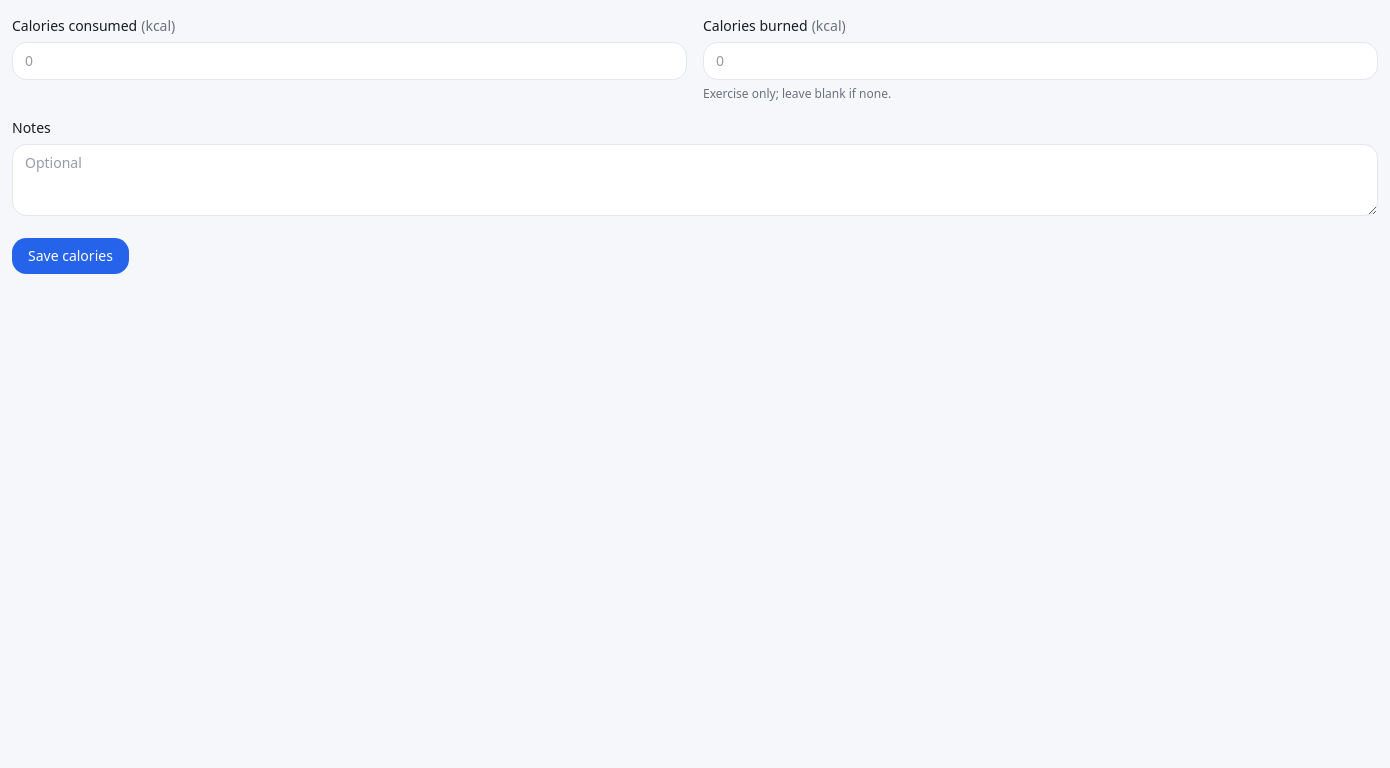
calorie quick entry › shows backend field errors on the matching input
Type "2200" into the number field labelled "Calories consumed(kcal)" at (350,61), box [12, 42, 687, 80]
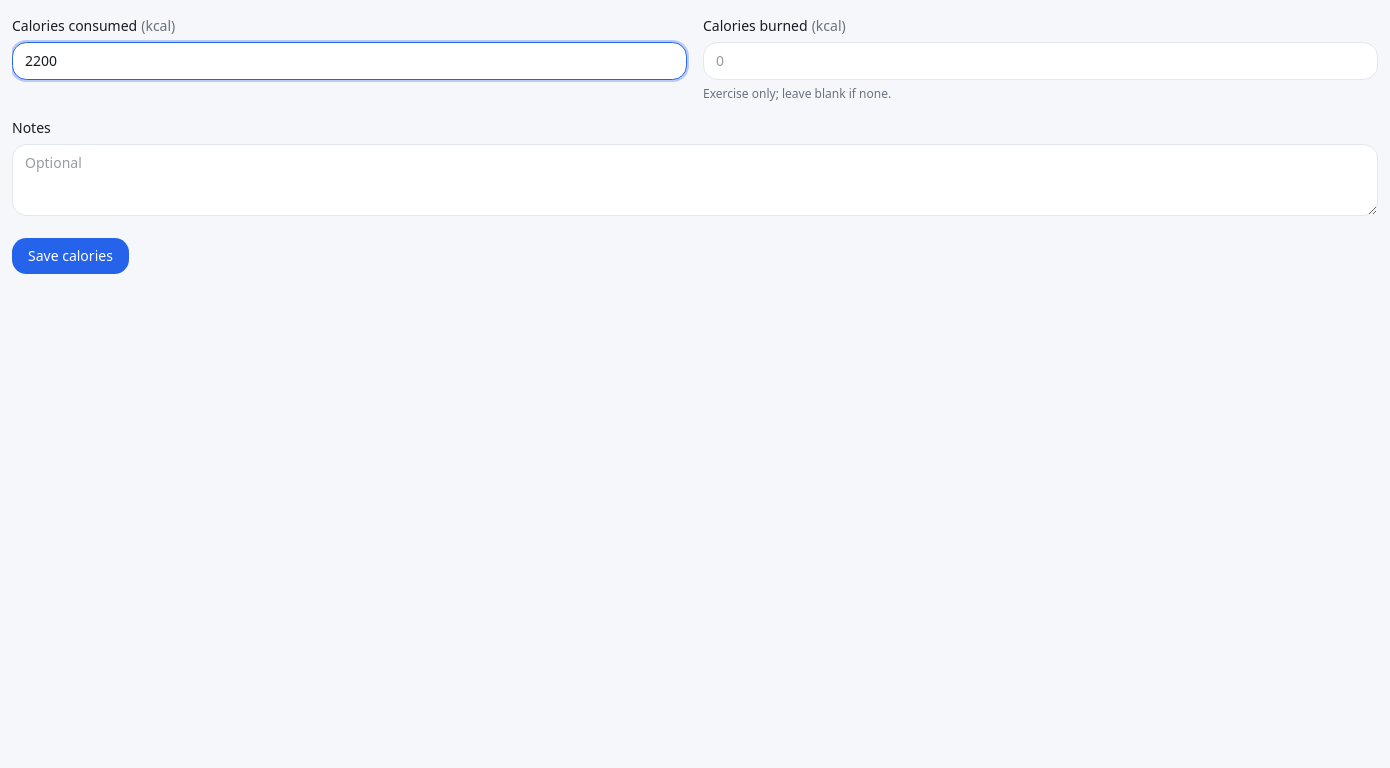
Click the button "Save calories" at (70,256), box [12, 238, 129, 274]
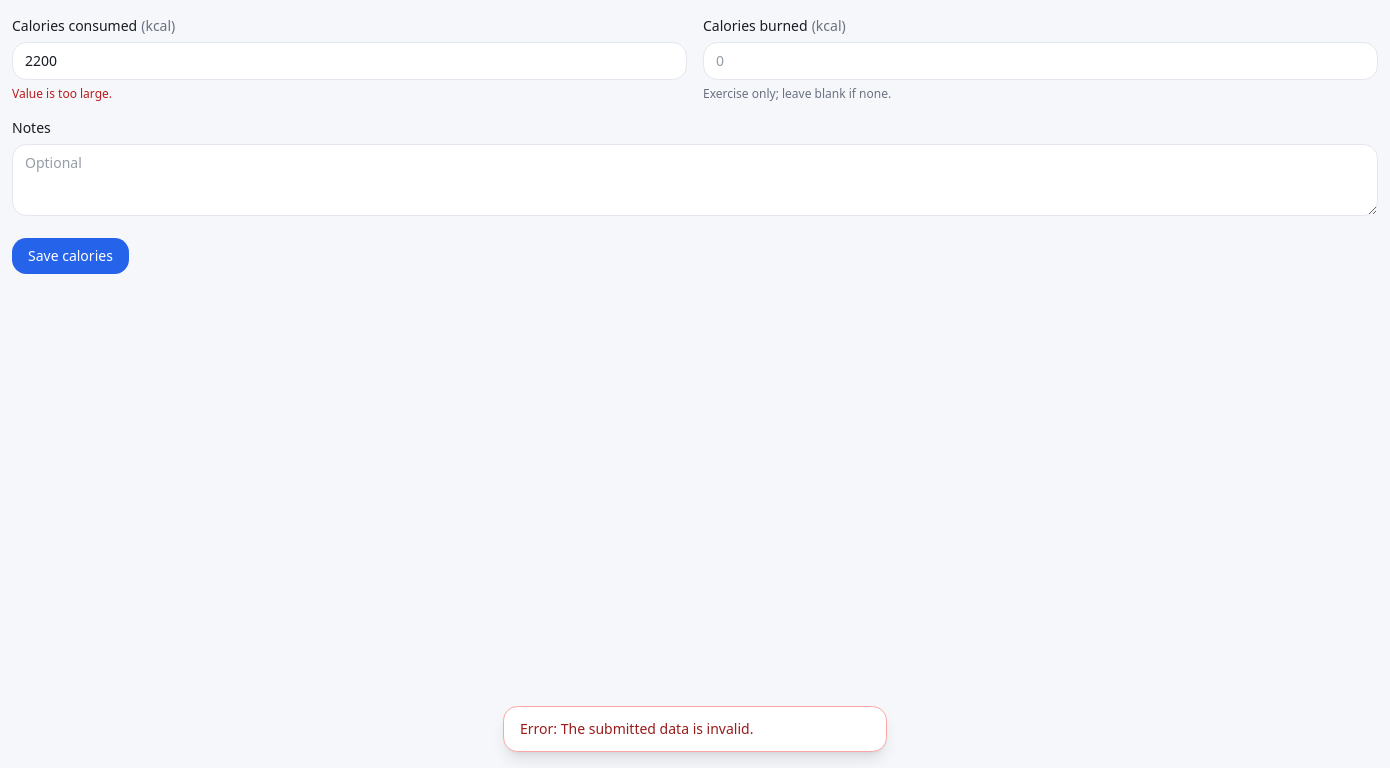
expect the text "Value is too large." is shown: met, box [12, 85, 112, 102]
